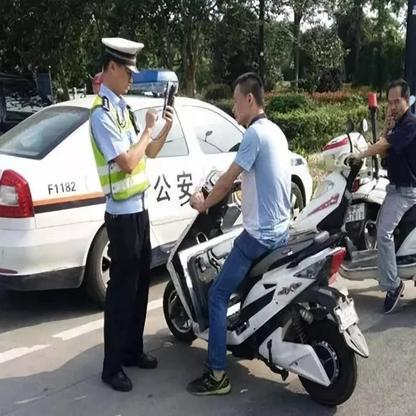target: (163, 71, 370, 407), (299, 77, 414, 312)
